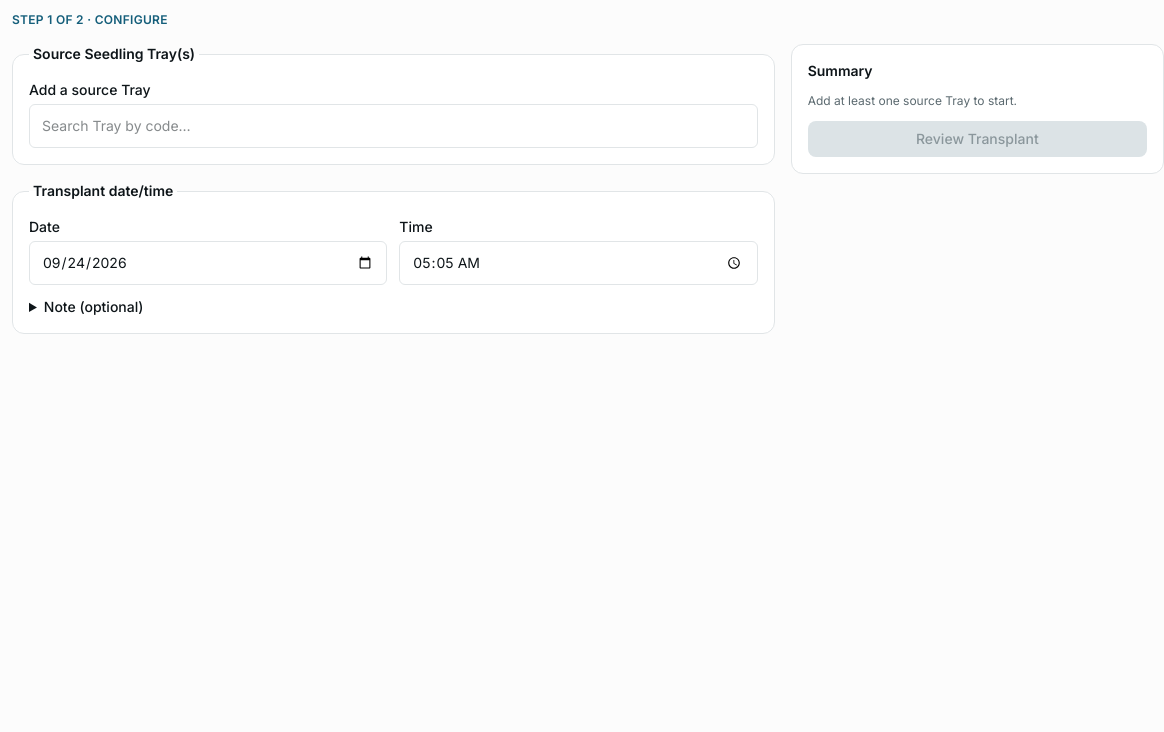
IntersaladsTransplantForm › only offers additional source Trays from the same Batch once one is established
Focus the dropdown labelled "Add a source Tray": point(393, 126) [29,104,758,148]
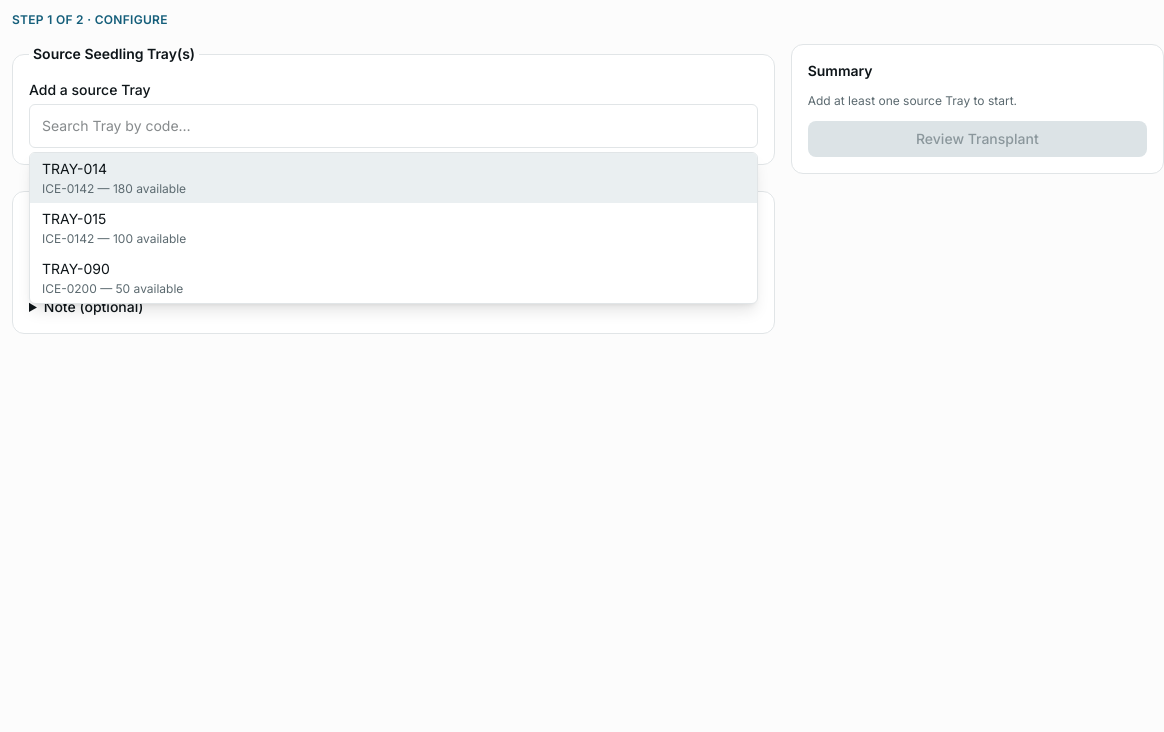
Now the text "TRAY-014" is shown
Click the text "TRAY-014": point(75, 169) [42,159,107,179]
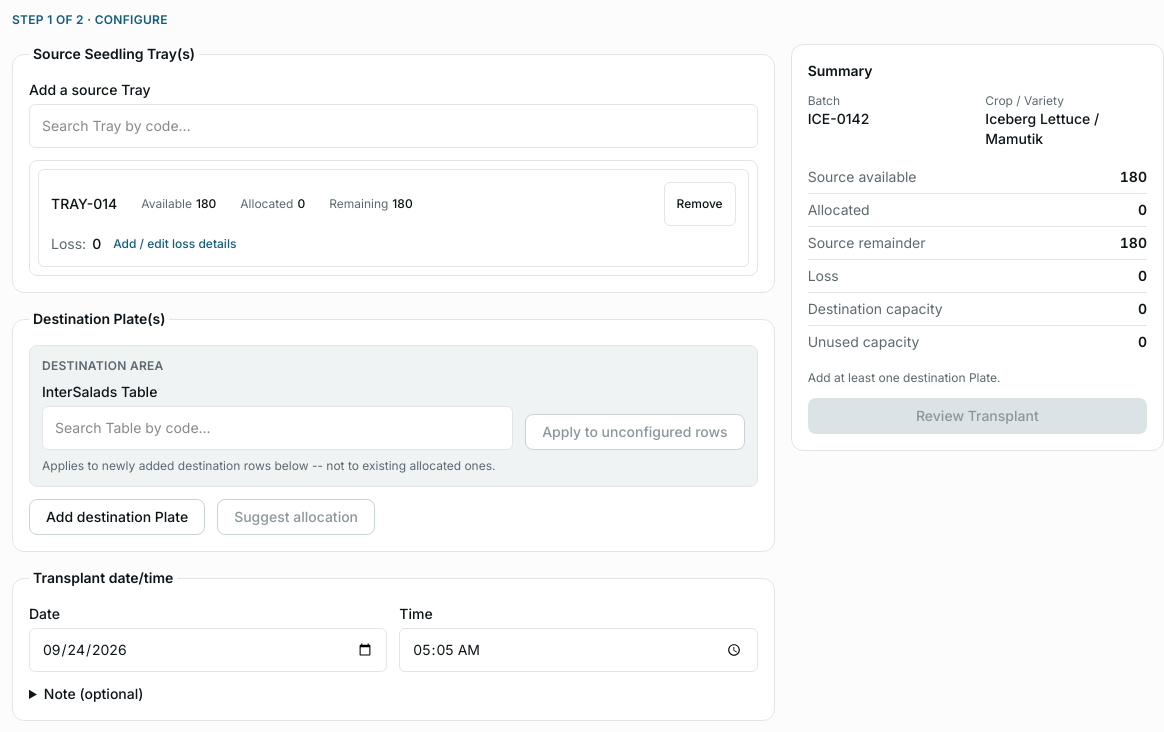
Focus the dropdown labelled "Add a source Tray": point(393, 126) [29,104,758,148]
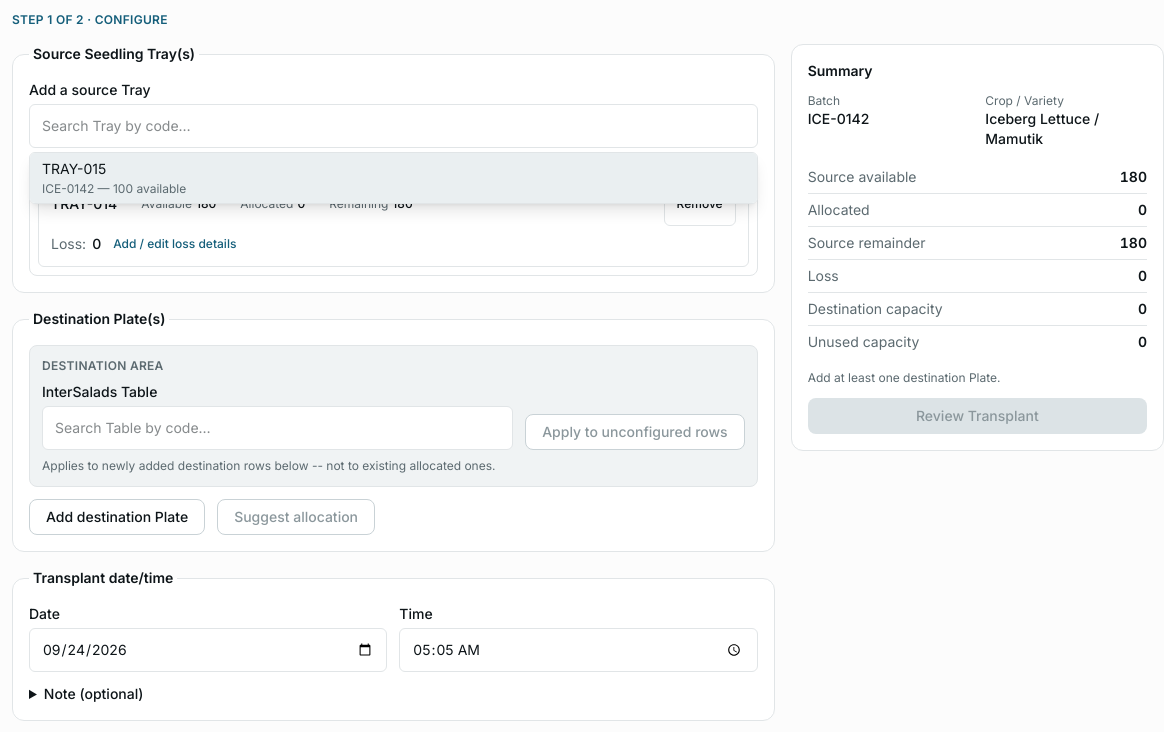
Expected: the button "TRAY-090" is not shown
Now the text "TRAY-015" is shown, box [42,159,106,179]
